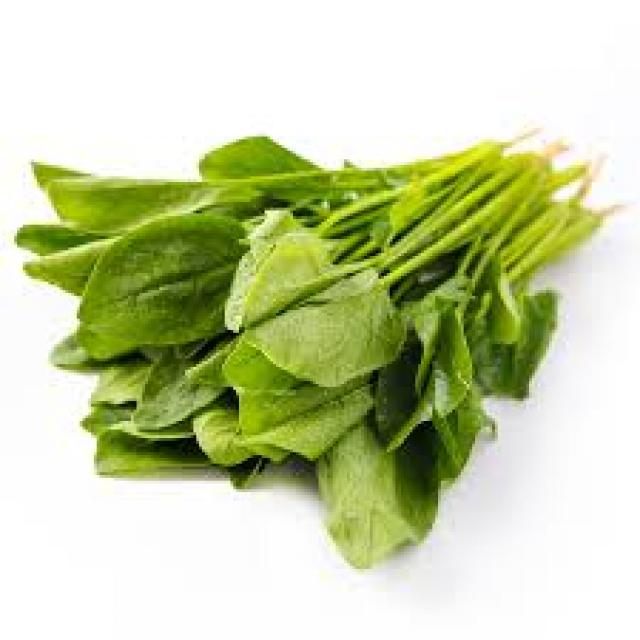organic waste: (17, 137, 612, 566)
